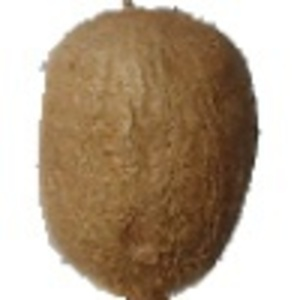kiwi: (35, 1, 260, 300)
